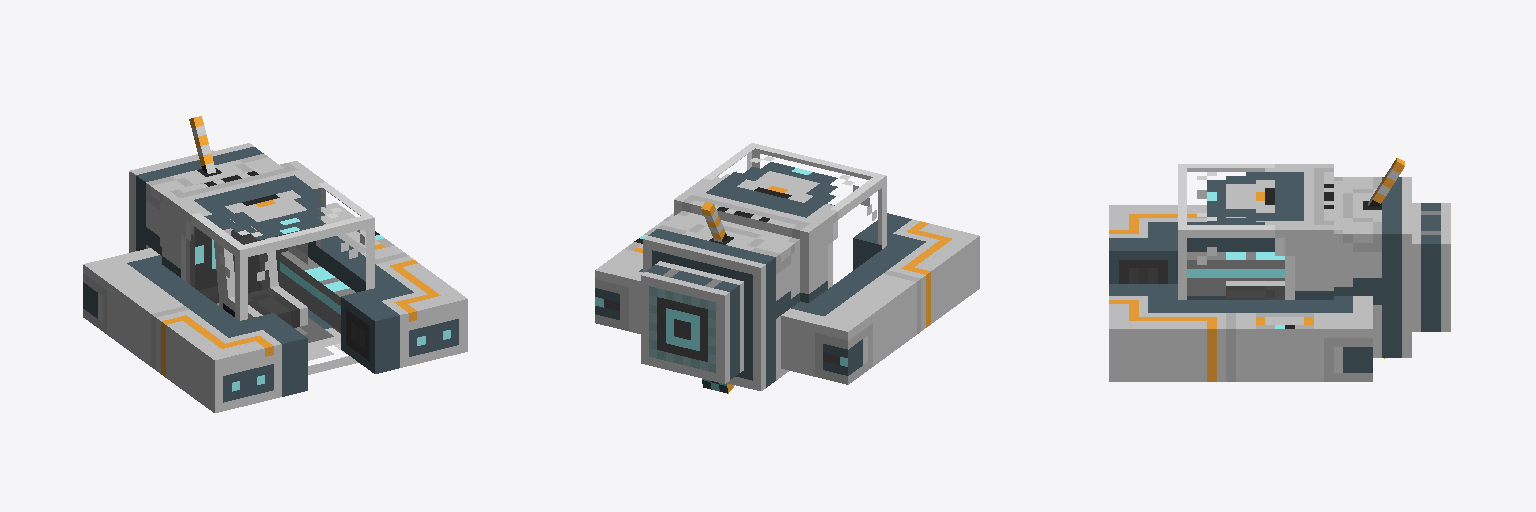
3 views of the same model, side by side, from view 1: azimuth 30°, elevation 25°; view 2: azimuth 150°, elevation 25°; view 3: azimuth 270°, elevation 25° (orthographic).
Parts seen in each view (by area): view 1: right, hull, left, back, leftfront, bankleft, rightfront, rightback, backrest, seat, ceiling, antenna (+1 smaller); view 2: hull, right, back, engine, rightback, leftback, rightfront, antenna, left; view 3: left, hull, back, engine, rightfront, leftback, bankright, right, seat, leftfront, antenna.
Part boxes in pixels (bbox=[...]): right: bbox=[103, 264, 273, 412]; hull: bbox=[162, 161, 374, 374]; left: bbox=[310, 217, 467, 365]; back: bbox=[131, 143, 287, 303]; leftfront: bbox=[341, 288, 408, 373]; bankleft: bbox=[280, 251, 355, 332]; rightfront: bbox=[240, 313, 307, 398]; rightback: bbox=[83, 248, 161, 330]; backrest: bbox=[214, 228, 278, 297]; seat: bbox=[219, 286, 307, 327]; ceiling: bbox=[204, 214, 325, 239]; antenna: bbox=[189, 116, 215, 173]; hull: bbox=[674, 143, 886, 302]; right: bbox=[809, 221, 979, 369]; back: bbox=[643, 211, 799, 390]; engine: bbox=[641, 261, 743, 383]; rightback: bbox=[781, 301, 867, 384]; leftback: bbox=[595, 256, 642, 333]; rightfront: bbox=[853, 213, 920, 270]; antenna: bbox=[701, 201, 727, 242]; left: bbox=[615, 174, 728, 262]; left: bbox=[1109, 300, 1333, 381]; hull: bbox=[1178, 164, 1333, 299]; back: bbox=[1334, 177, 1411, 357]; engine: bbox=[1412, 203, 1450, 331]; rightfront: bbox=[1109, 234, 1177, 283]; leftback: bbox=[1334, 296, 1372, 381]; bankright: bbox=[1187, 252, 1284, 295]; right: bbox=[1109, 205, 1274, 251]; seat: bbox=[1226, 281, 1284, 299]; leftfront: bbox=[1109, 284, 1177, 299]; antenna: bbox=[1368, 158, 1404, 206].
Size of the model in its own units: 1.88 by 1.37 by 2.19.
1 materials, 1 textured.